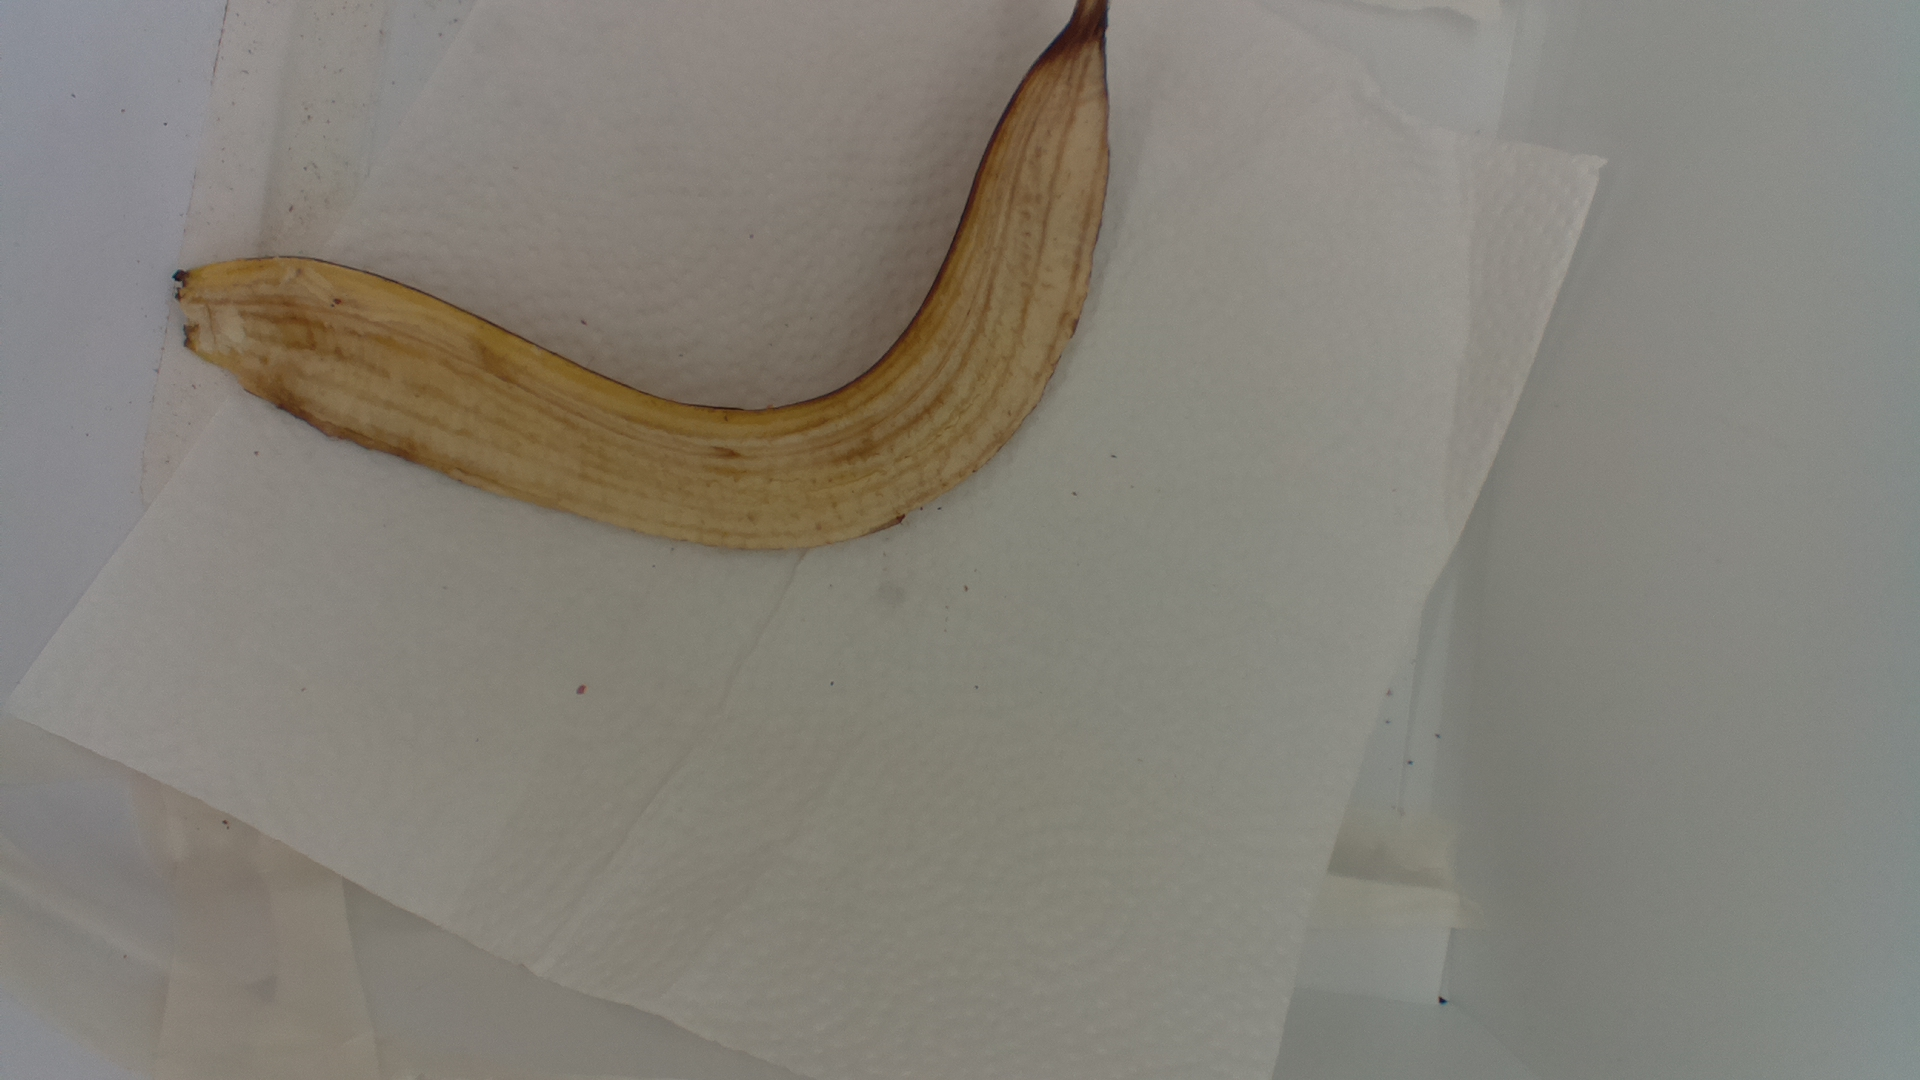fruit: (175, 1, 1121, 560)
